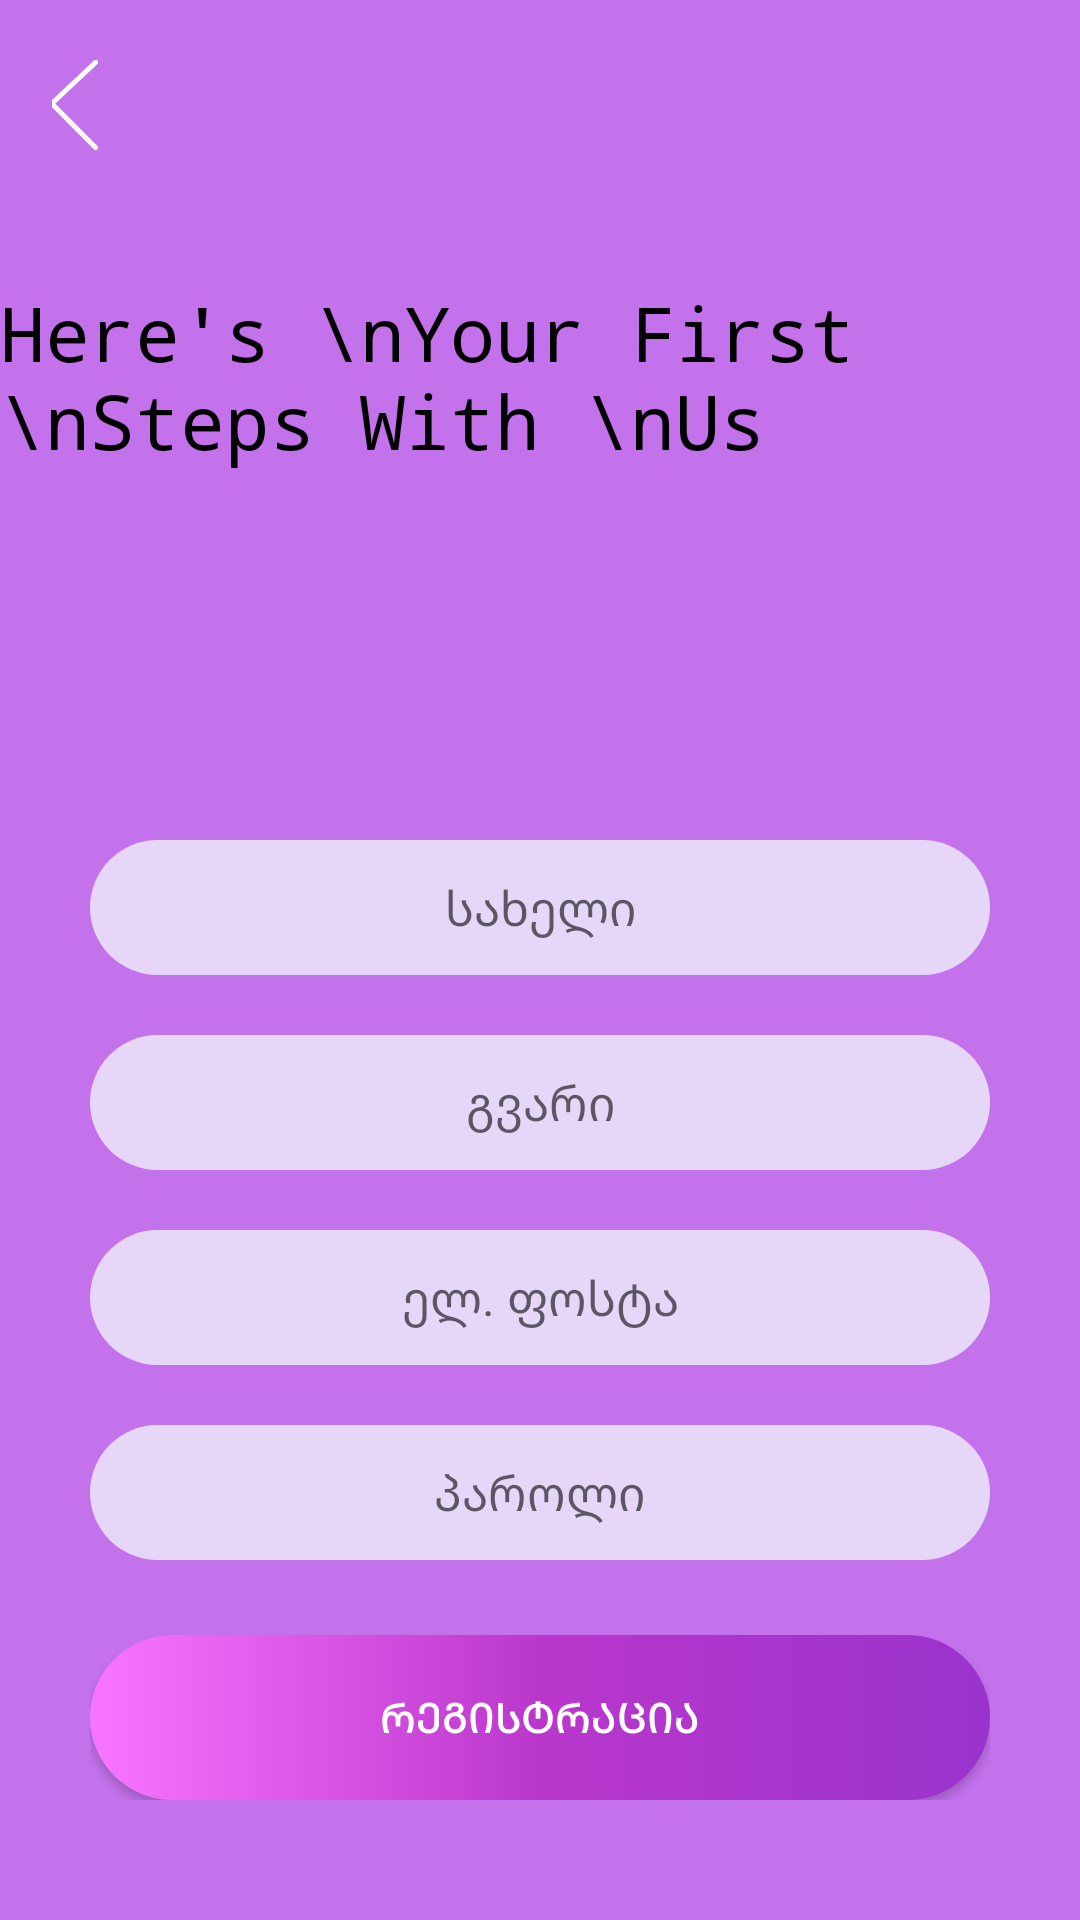

Where to tap for icons on this 1080×1920 app screen, as point (x, y):
back: point (75, 105)
